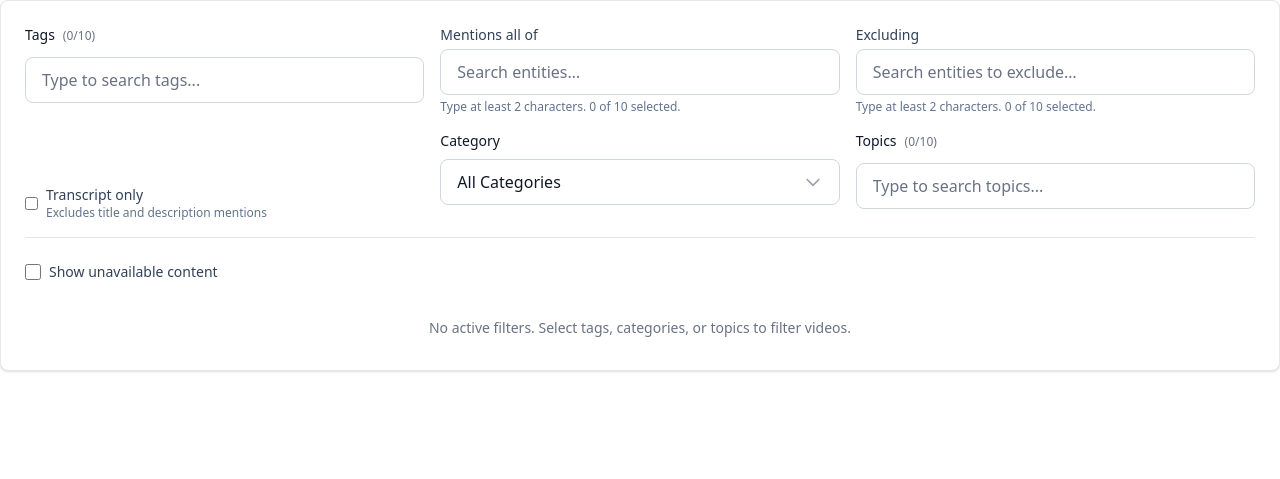
it: VideoFilters — entity intersection (Feature 062) › selection › adds a chosen entity to the URL as a repeated entity_id key
The width and height of the screenshot is (1280, 479).
In the dropdown labelled "Mentions all of": x=640, y=72 440,49 -> 840,95, type "ada"
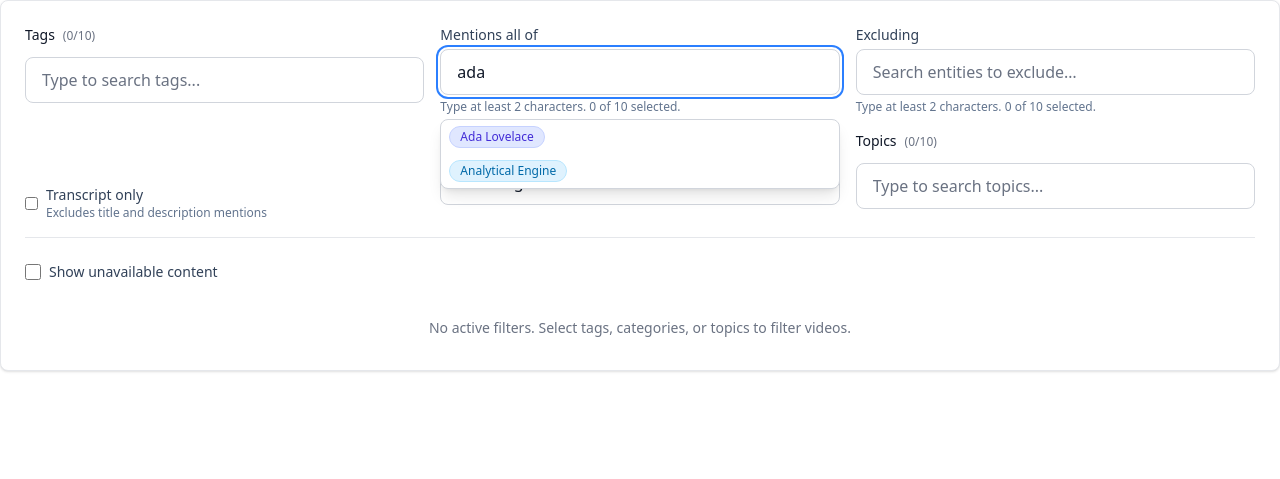
Click the option "Ada Lovelace": x=497, y=137 449,126 -> 545,148
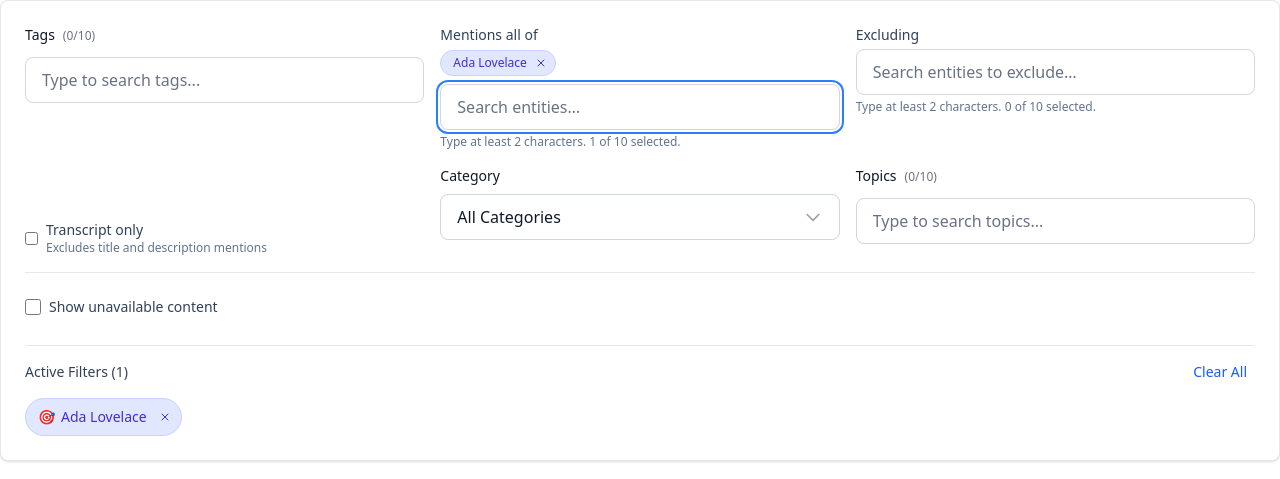
Expected: the button named "Remove Ada Lovelace" is shown, 533,55 -> 549,71
